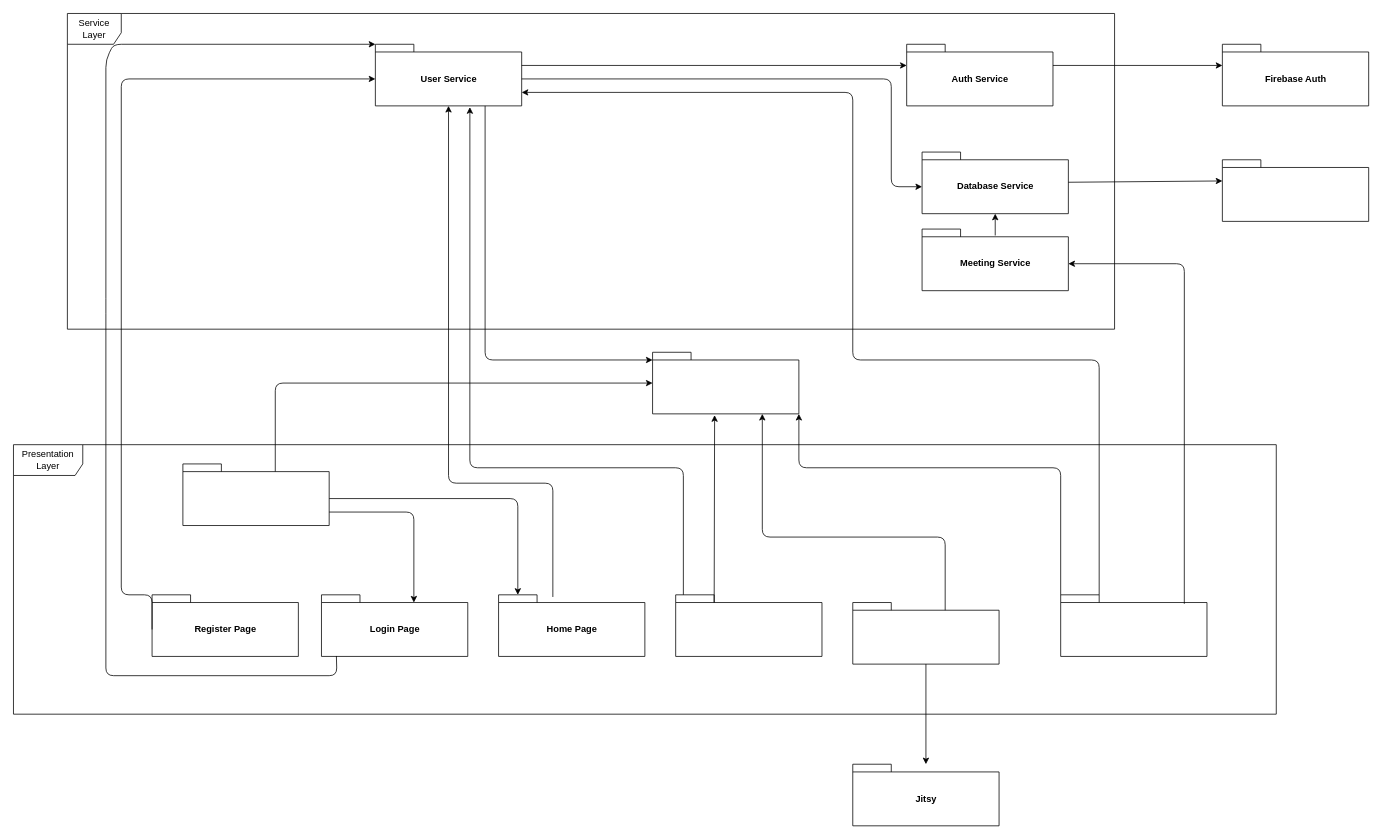
This 1382x839 diagram has some shape labels left out. The shapes that lost their labels are listed below. From the top down, each one's centre as x and y in pixels, then its label:
the point at 1295,190: Firebase Firestore
the point at 725,383: User Provider
the point at 255,494: Auth Check Widget
the point at 748,625: Edit Profile Page
the point at 925,633: Meeting Page
the point at 1133,625: Create Event Page
